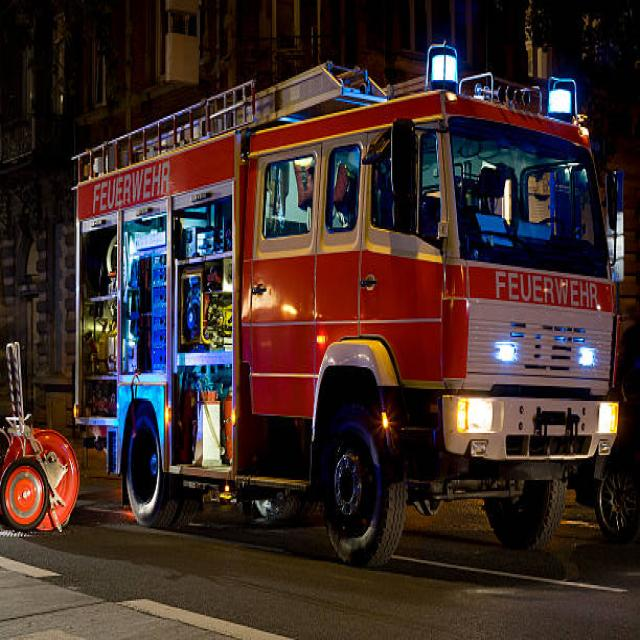emergency: (76, 45, 619, 565)
